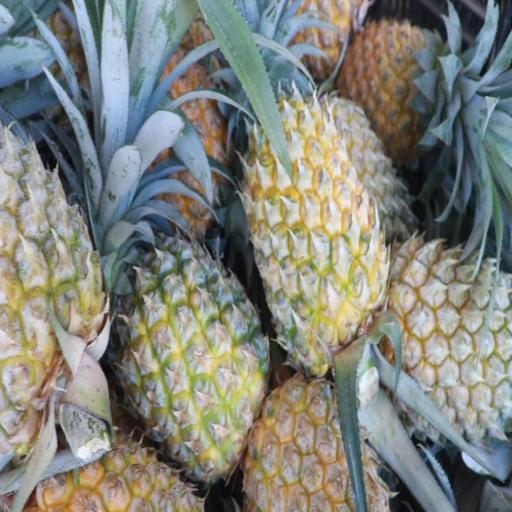------------------------------: (120, 241, 274, 465), (380, 238, 512, 432)
Pineapple - v8 v1: (240, 89, 390, 349), (252, 369, 388, 512), (344, 14, 456, 152)
